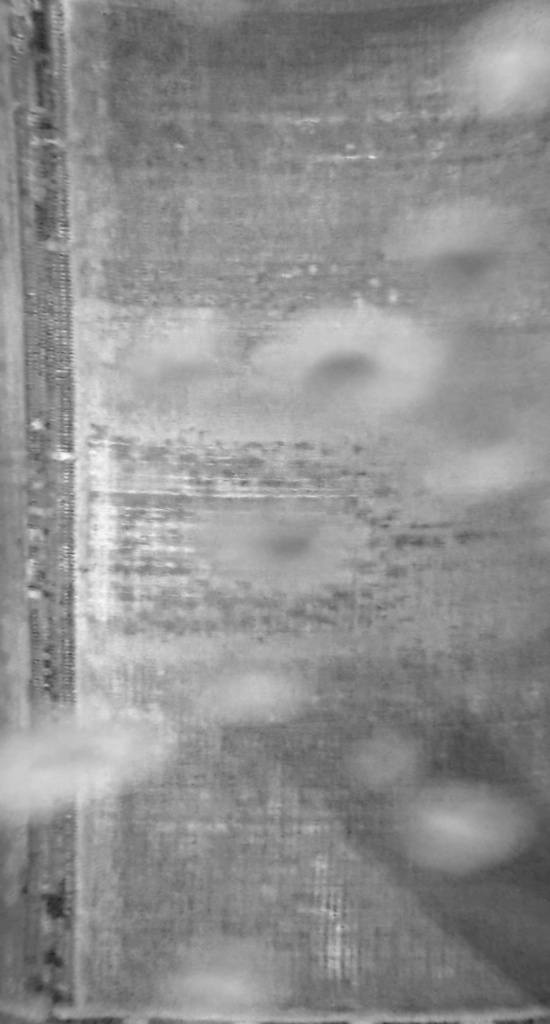splice: (3, 1, 99, 1024)
